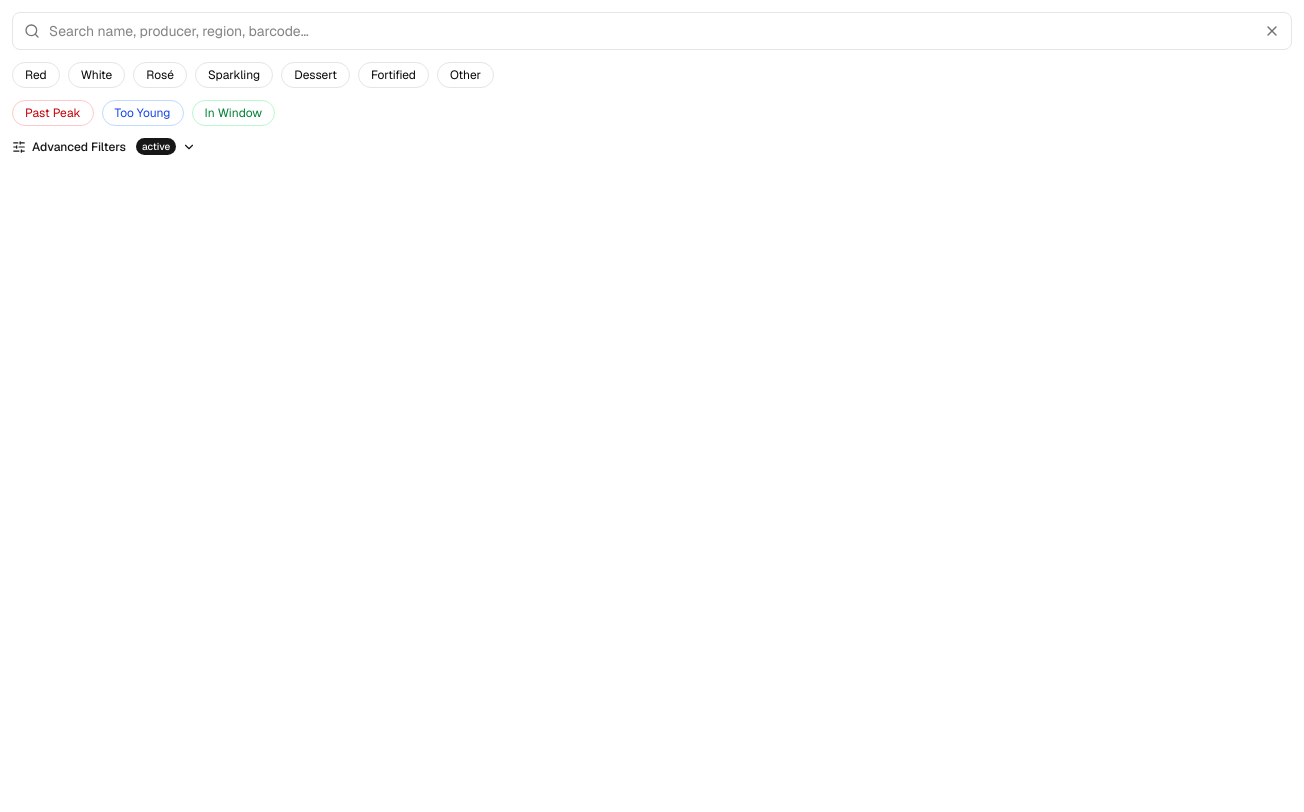
Test: WineSearch › reflects country param in country input after opening advanced panel
Click the button "Advanced Filters active": (104, 147) [12,138,196,155]
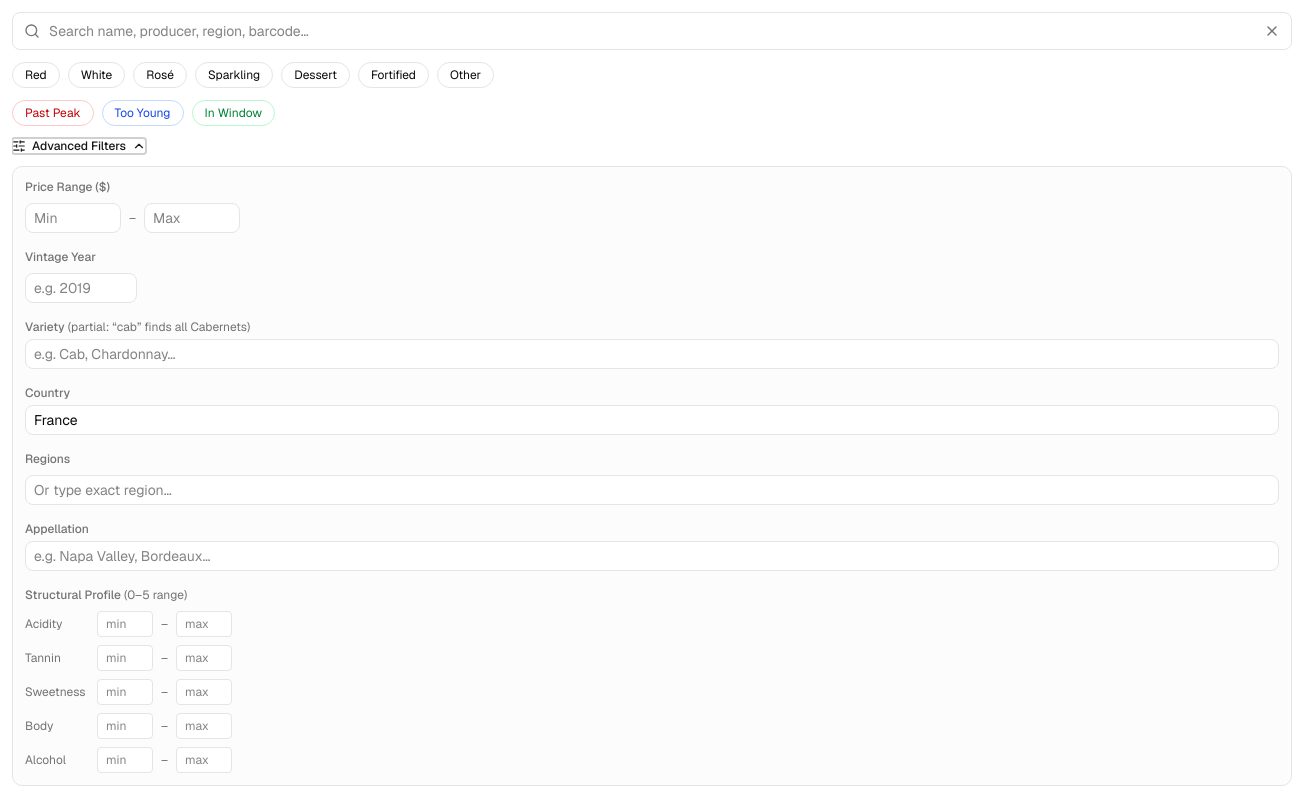
Expected: the field showing "France" is shown, [25,405,1279,435]
